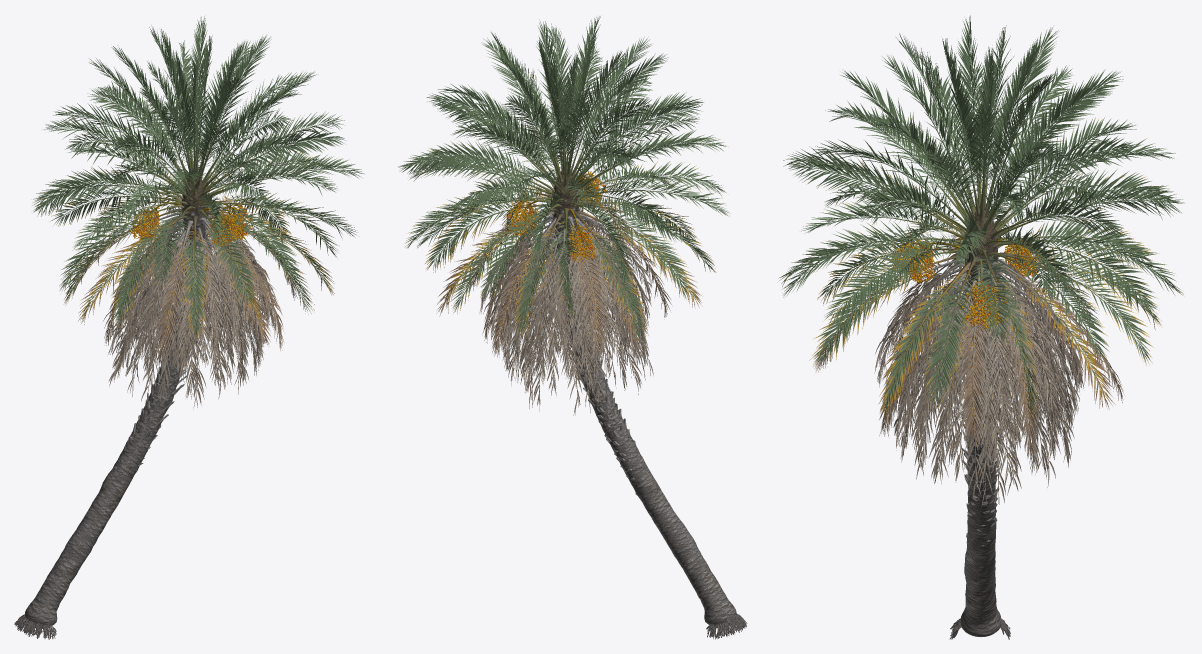
The model's file is Phoenix dactylifera HD_Curved mat 75_LOD1.fbx.
3 renders of one model, left to right at view 1: azimuth 30°, elevation 25°; view 2: azimuth 150°, elevation 25°; view 3: azimuth 270°, elevation 25°, orthographic. The views are drawn at different scales.
Parts seen in each view (by area): view 1: Phoenix_dactylifera_HD; view 2: Phoenix_dactylifera_HD; view 3: Phoenix_dactylifera_HD.
Part boxes in pixels (<box>): Phoenix_dactylifera_HD: <box>14,16,363,639</box>; Phoenix_dactylifera_HD: <box>398,16,747,639</box>; Phoenix_dactylifera_HD: <box>778,15,1184,639</box>.
Size of the model in its own units: 8.26 by 13.35 by 7.19.
Materials: 18 (18 with a texture image).
